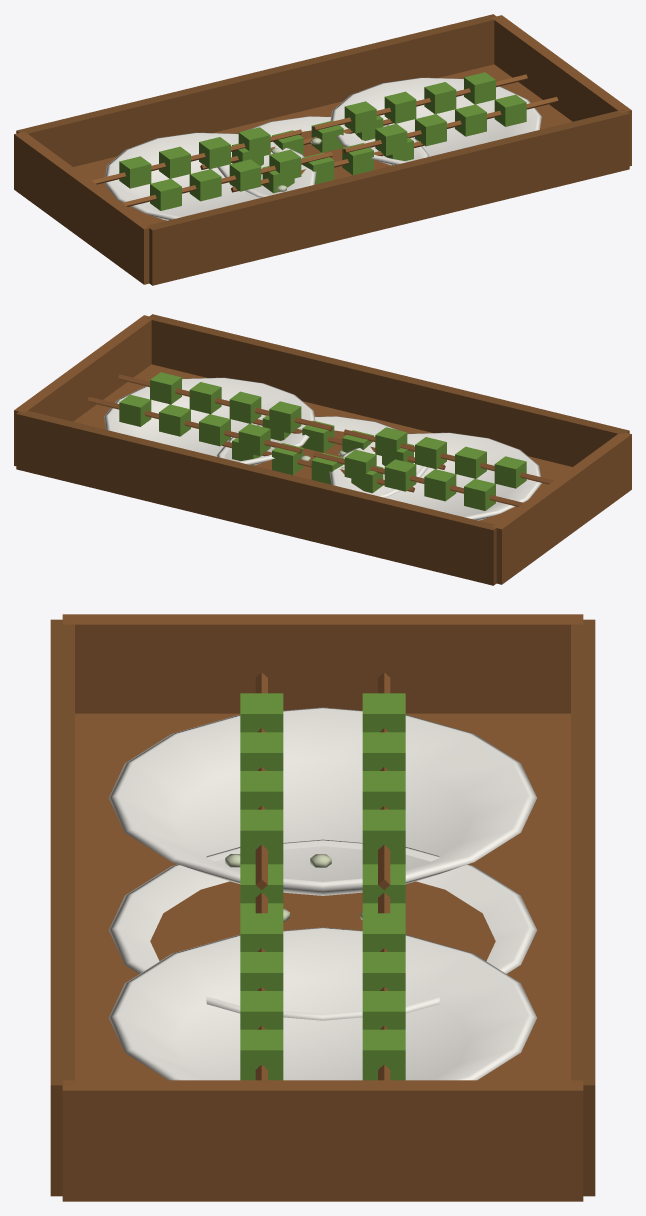
Rendered from Insect_Skewer.fbx.
The picture shows the model from 3 angles, top to bottom: view 1: azimuth 30°, elevation 25°; view 2: azimuth 150°, elevation 25°; view 3: azimuth 270°, elevation 25°; orthographic projection. The views are drawn at different scales.
Parts seen in each view (by area): view 1: Insect_Skewer__Stack, Insect_Skewer; view 2: Insect_Skewer__Stack, Insect_Skewer; view 3: Insect_Skewer__Stack, Insect_Skewer.
Boxes of the visible parts, left/top/right/bottom form: Insect_Skewer__Stack: left=14, top=14, right=631, bottom=285; Insect_Skewer: left=200, top=115, right=429, bottom=197; Insect_Skewer__Stack: left=14, top=314, right=631, bottom=585; Insect_Skewer: left=216, top=415, right=445, bottom=497; Insect_Skewer__Stack: left=50, top=614, right=595, bottom=1201; Insect_Skewer: left=108, top=839, right=537, bottom=1020.
Bounding box in the file's own units: 0.368 × 0.04 × 0.178.
